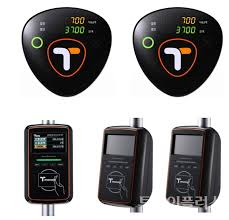terminal: (20, 7, 114, 103)
